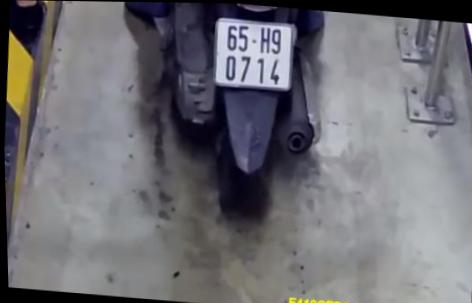LP: (209, 16, 298, 92)
